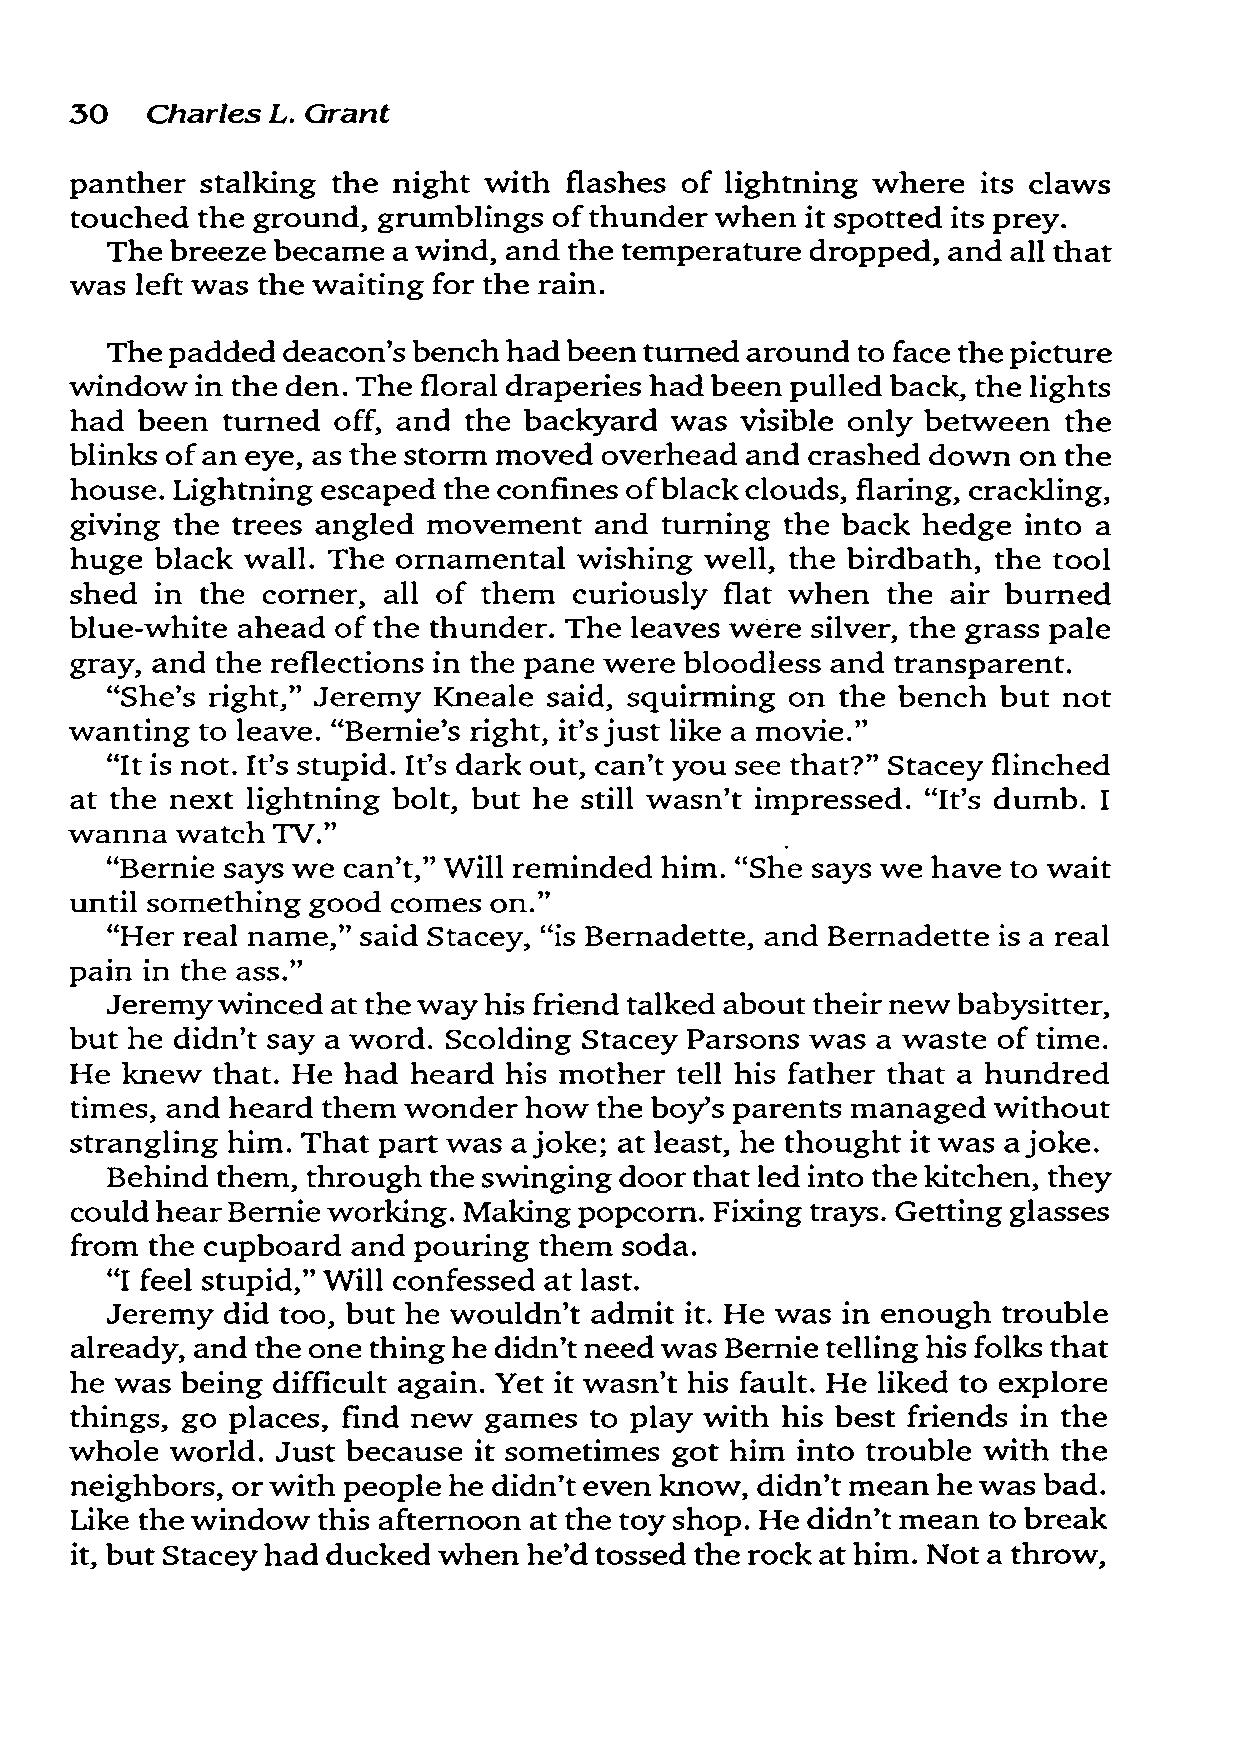content: (64, 165, 1117, 1571)
content_chapter: (144, 97, 391, 129)
content_pagenumber: (66, 101, 110, 127)
